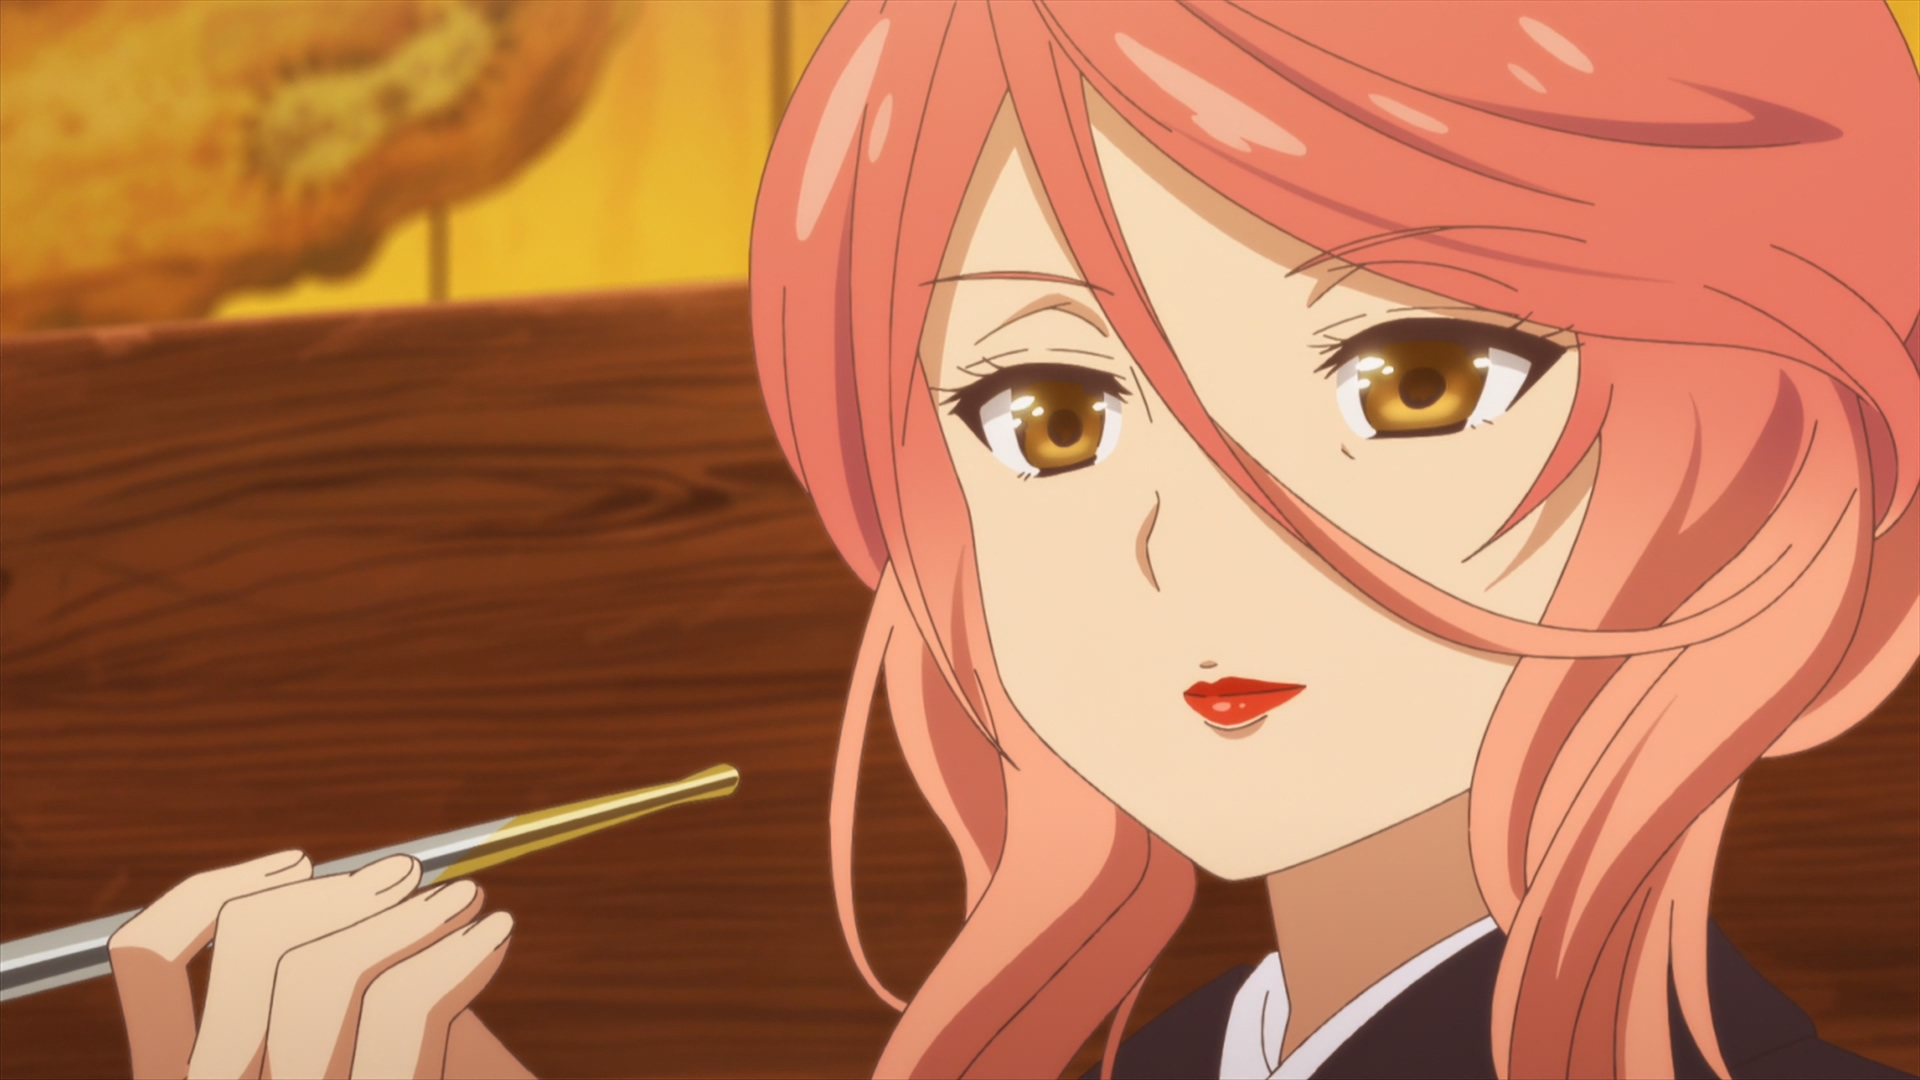椿: (748, 1, 1920, 1080)
